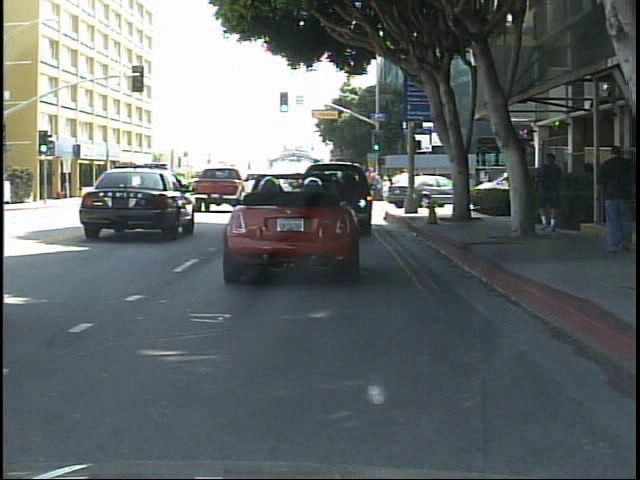person: (596, 141, 636, 260), (535, 146, 570, 236), (132, 175, 150, 202)
